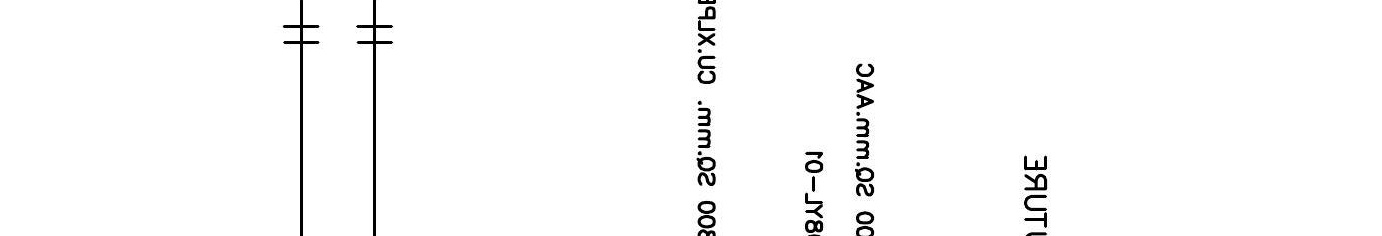115_buffer: (356, 25, 393, 44), (283, 25, 320, 44)
